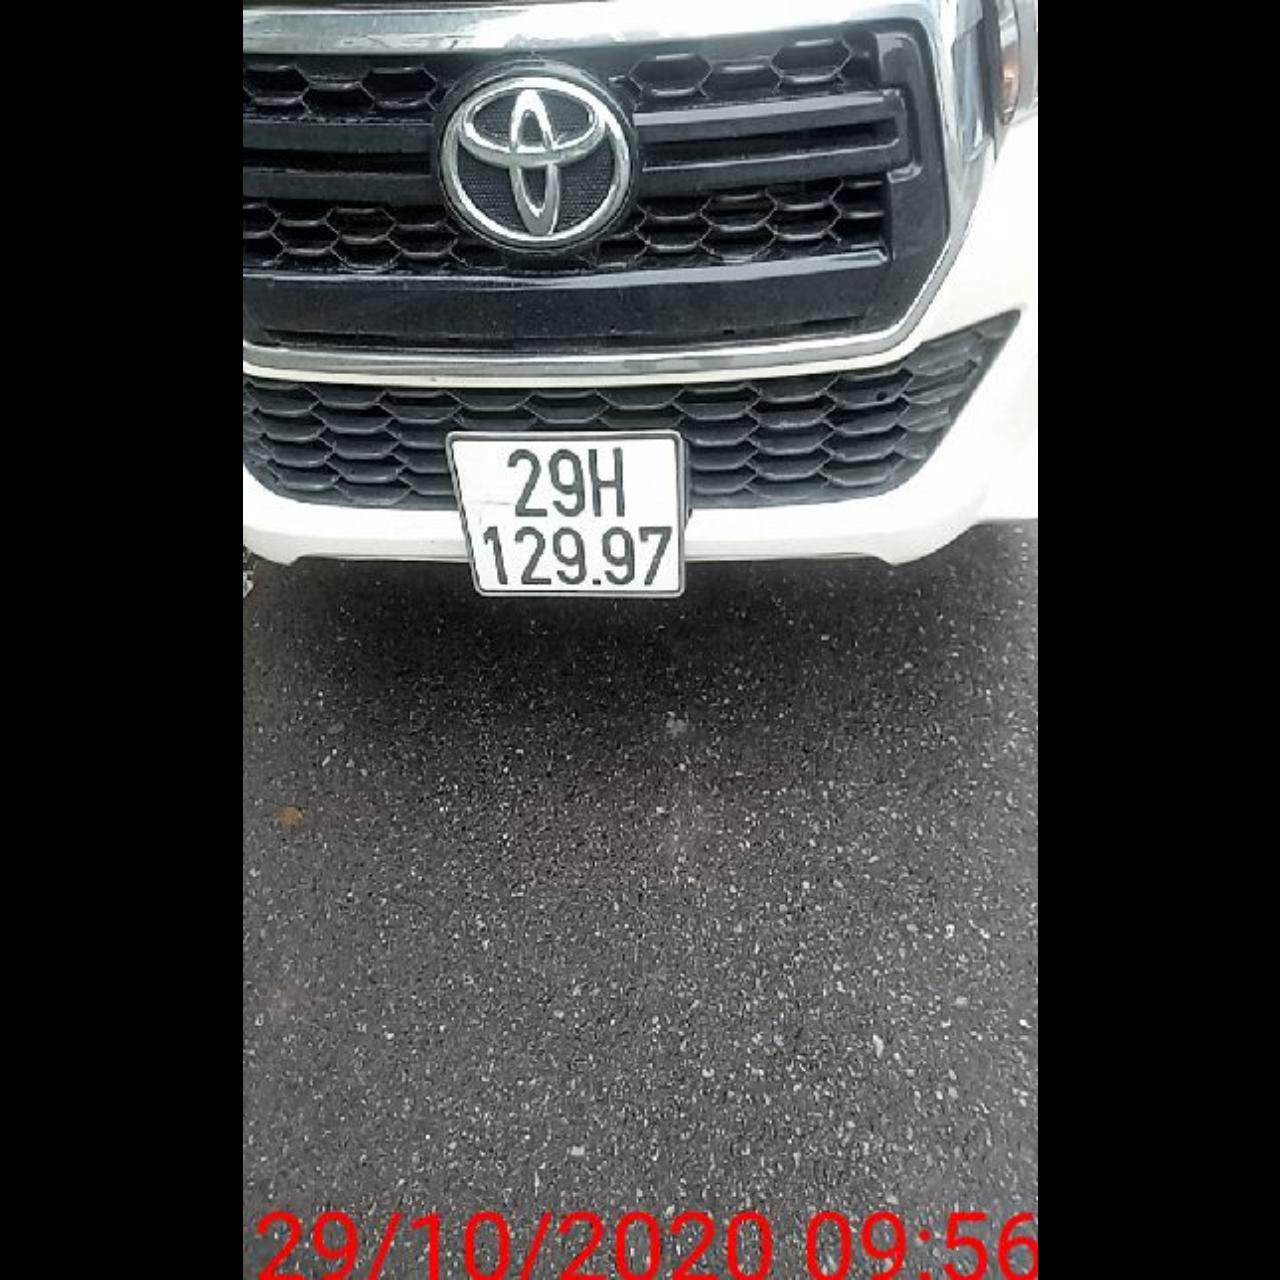bienso: (442, 431, 688, 601)
